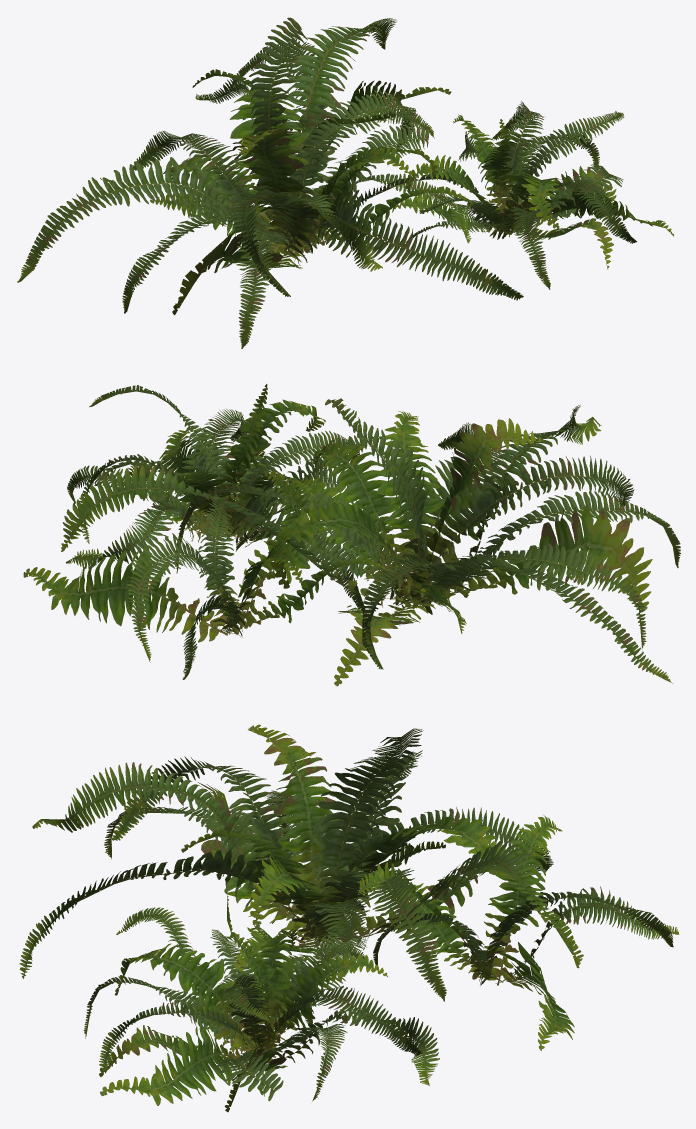
File: verdant-fern-bank.glb
3 renders of one model, top to bottom at view 1: azimuth 30°, elevation 25°; view 2: azimuth 150°, elevation 25°; view 3: azimuth 270°, elevation 25°, orthographic. The views are drawn at different scales.
Visible parts, largest first — view 1: verdant-fern-bank-0, verdant-fern-bank-1, verdant-fern-bank-2; view 2: verdant-fern-bank-0, verdant-fern-bank-1, verdant-fern-bank-2; view 3: verdant-fern-bank-0, verdant-fern-bank-1, verdant-fern-bank-2.
Boxes of the visible parts, left/top/right/bottom form: verdant-fern-bank-0: left=17, top=17, right=523, bottom=348; verdant-fern-bank-1: left=326, top=101, right=673, bottom=289; verdant-fern-bank-2: left=192, top=38, right=451, bottom=178; verdant-fern-bank-0: left=61, top=398, right=680, bottom=686; verdant-fern-bank-1: left=66, top=384, right=409, bottom=610; verdant-fern-bank-2: left=23, top=469, right=392, bottom=679; verdant-fern-bank-0: left=19, top=724, right=583, bottom=1031; verdant-fern-bank-1: left=83, top=895, right=439, bottom=1112; verdant-fern-bank-2: left=357, top=815, right=679, bottom=1050.
Bounding box in the file's own units: 2.11 × 0.7705 × 1.83.
Materials: 1 (1 with a texture image).
